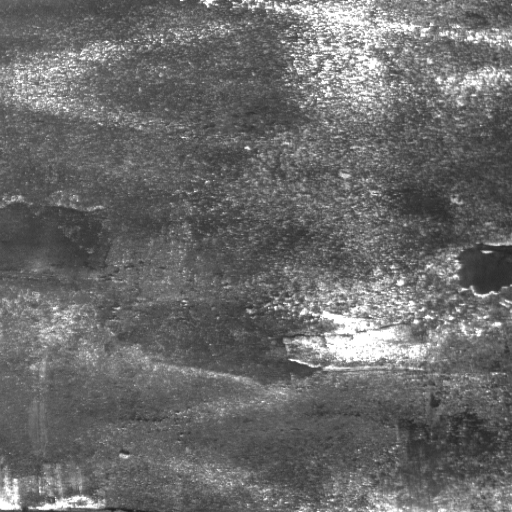aokeng: (450, 238, 512, 300)
